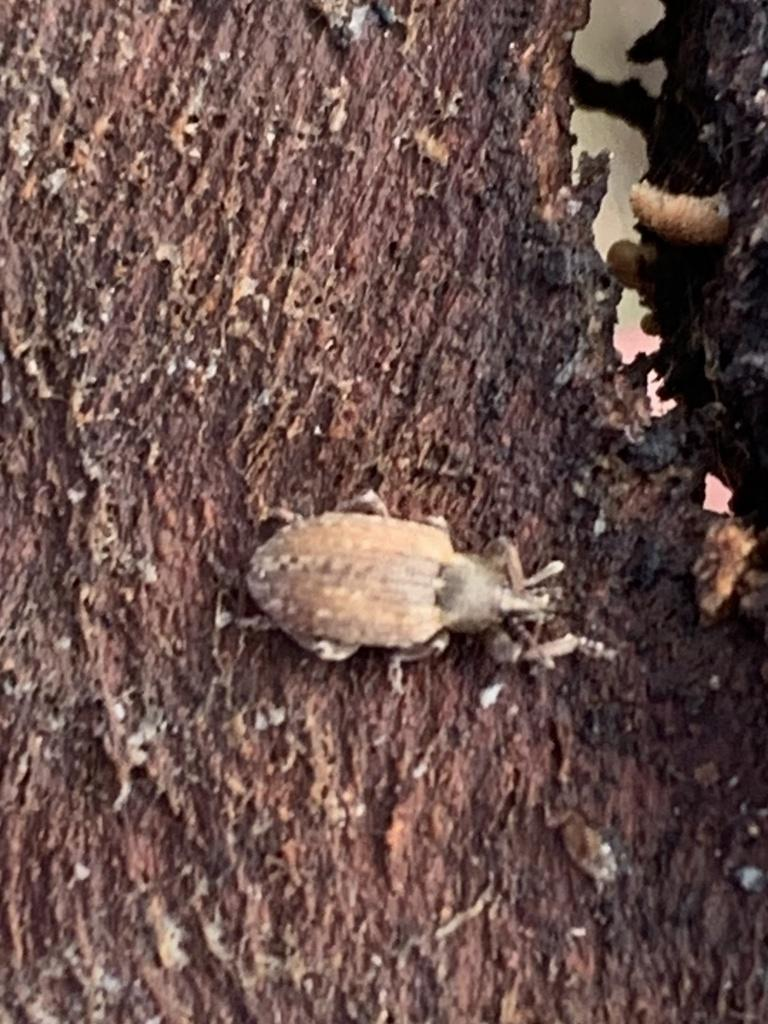weevils: (194, 421, 609, 750)
